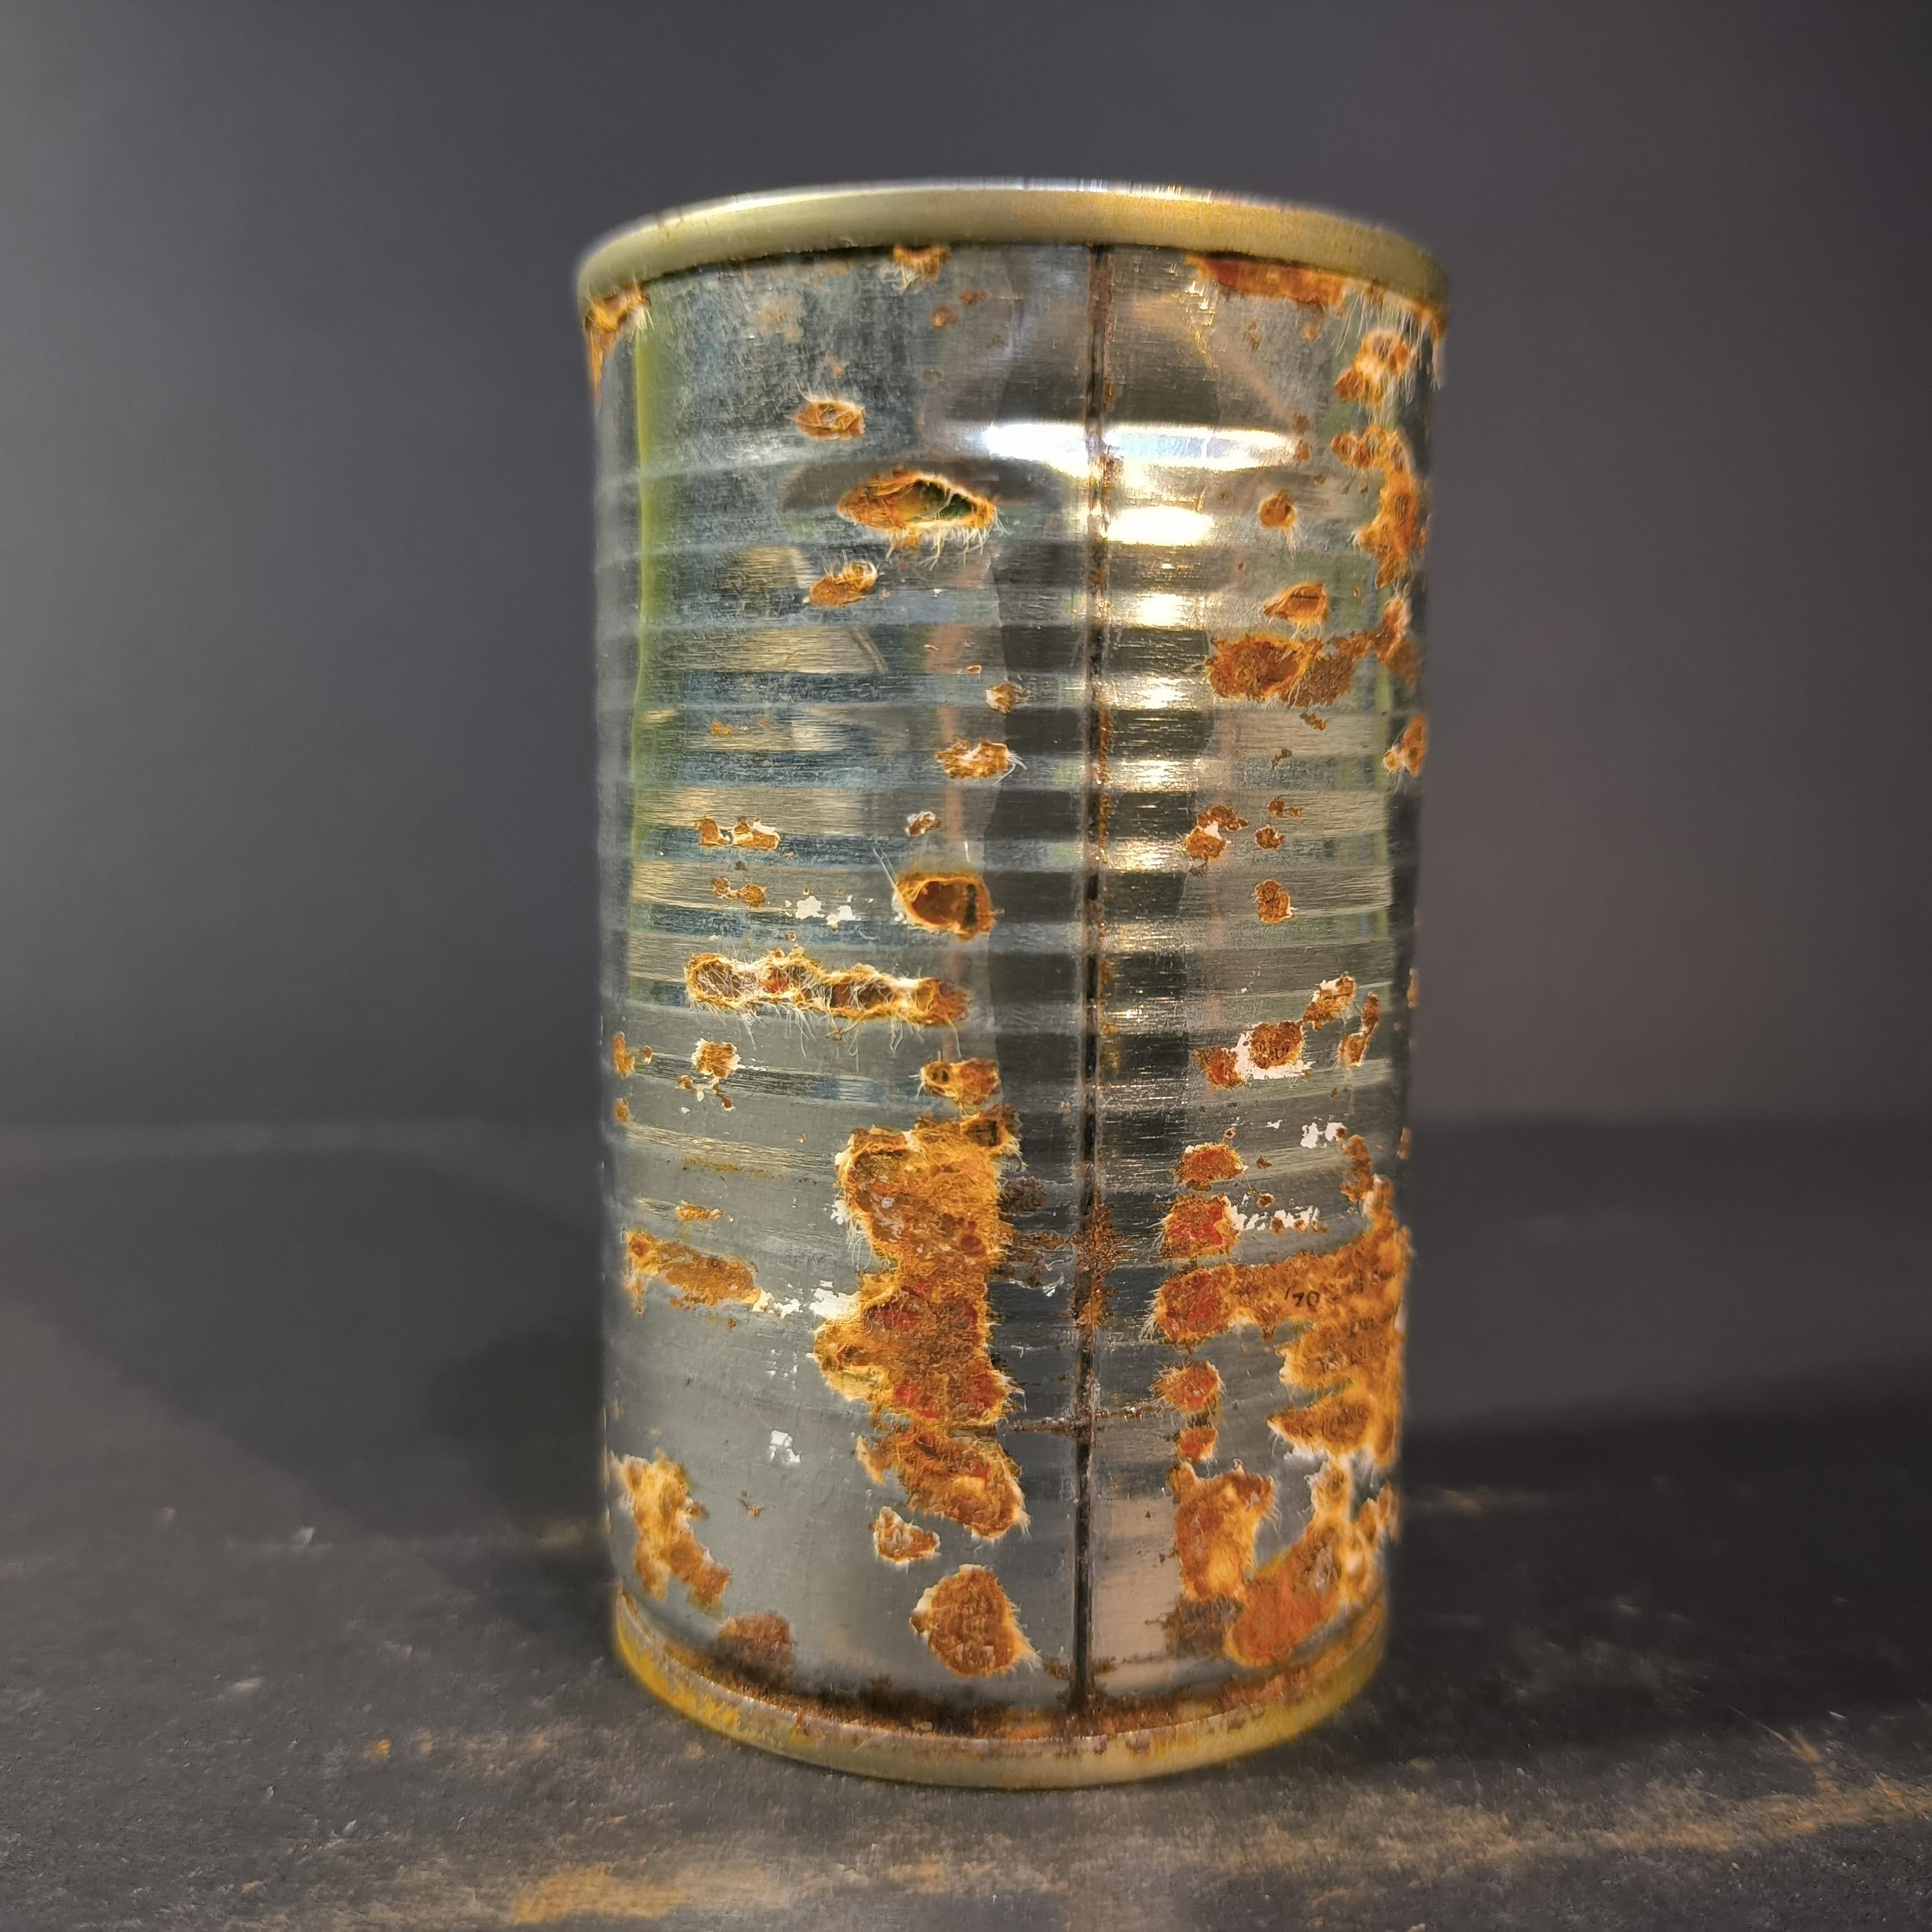Rusted: (554, 165, 1433, 1789)
